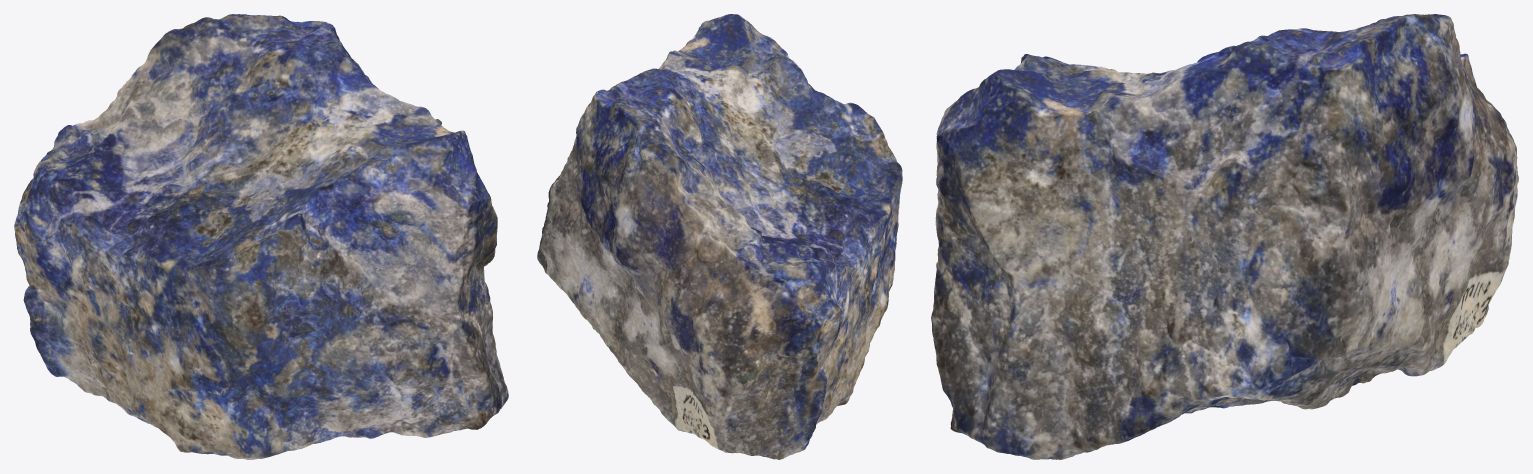
Rendered from sodalite.glb.
3 views of the same model, side by side, from view 1: azimuth 30°, elevation 25°; view 2: azimuth 150°, elevation 25°; view 3: azimuth 270°, elevation 25° (orthographic). The views are drawn at different scales.
Parts seen in each view (by area): view 1: Object_2; view 2: Object_2; view 3: Object_2.
Boxes of the visible parts, x1,y1,x2,y2 form: Object_2: (14,14,508,459); Object_2: (537,14,902,459); Object_2: (931,14,1518,459).
Bounding box in the file's own units: 3.12 × 2.8 × 3.52.
Materials: 1 (1 with a texture image).
